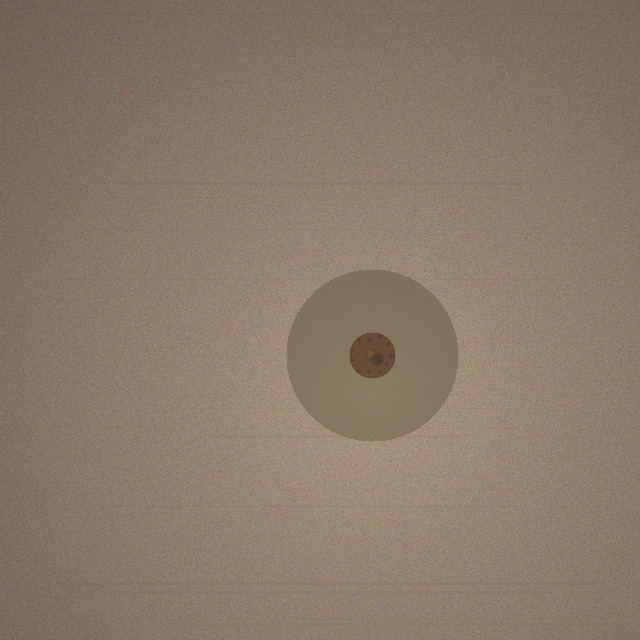cold_weld: (286, 269, 458, 441)
